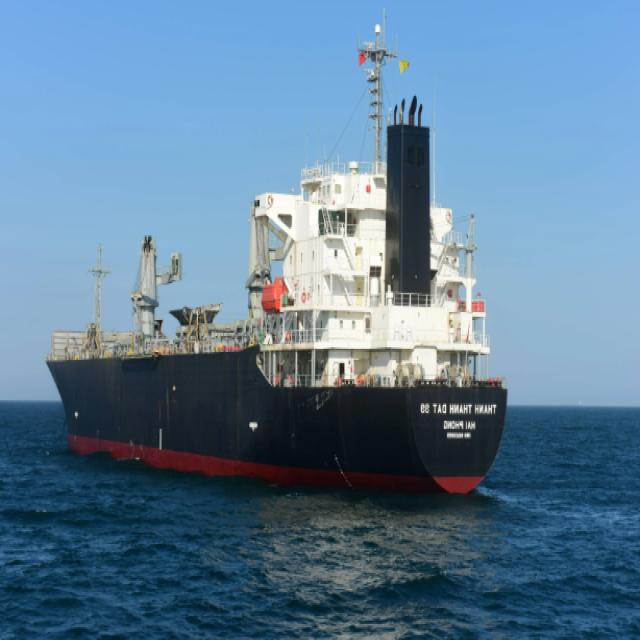cargoship: (23, 3, 512, 502)
